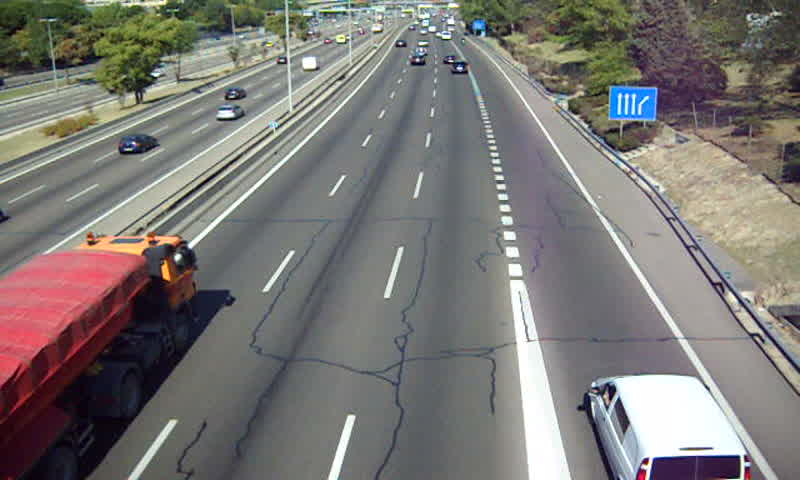car: (450, 62, 470, 76)
truck: (1, 236, 196, 480)
van: (590, 374, 749, 480)
